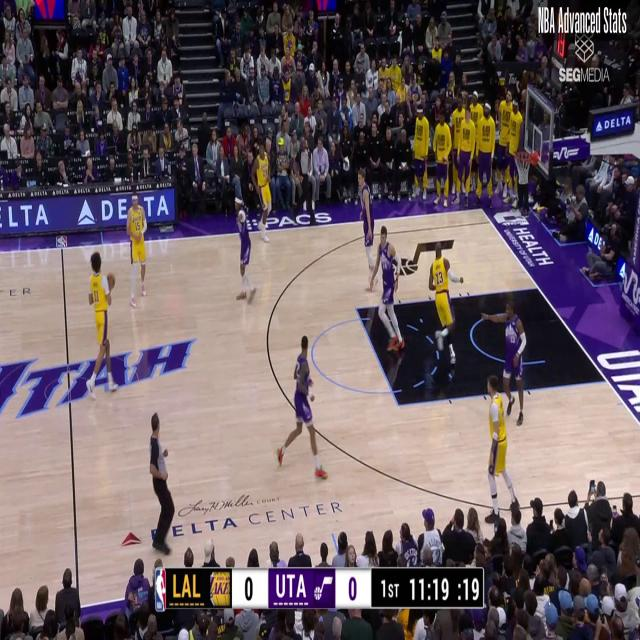ball: (107, 273, 115, 290)
judge: (147, 413, 175, 564)
player: (276, 339, 330, 476), (480, 374, 525, 524), (481, 299, 525, 423), (368, 226, 404, 357), (428, 243, 464, 369), (86, 257, 118, 396), (126, 192, 147, 306), (234, 202, 257, 301), (359, 161, 377, 287), (255, 139, 273, 243)
